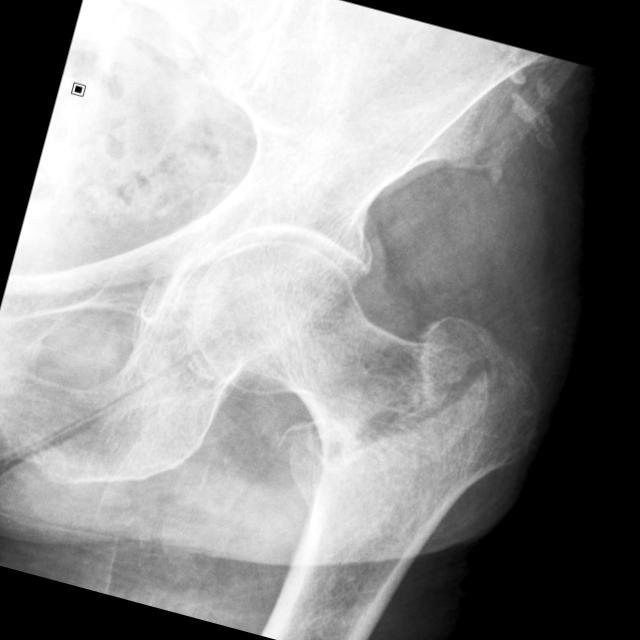left-intertrochanteric: (278, 346, 542, 624), (192, 240, 502, 456)
